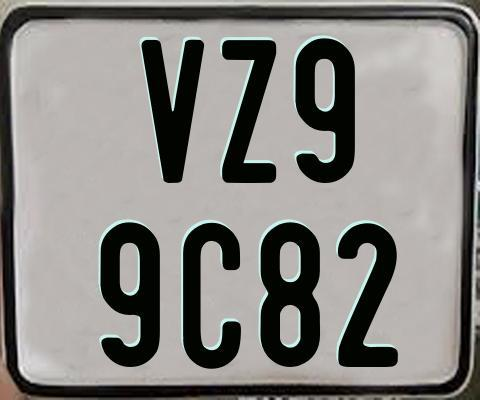2: (336, 222, 402, 371)
8: (259, 222, 325, 371)
9: (294, 35, 359, 185), (99, 219, 159, 365)
C: (181, 223, 245, 375)
V: (139, 37, 204, 185)
Z: (222, 38, 279, 186)
